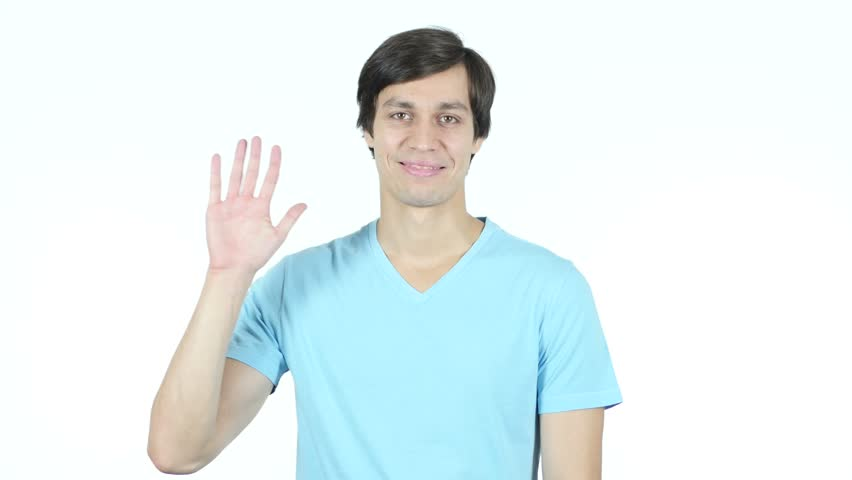open_hand: (184, 120, 319, 283)
